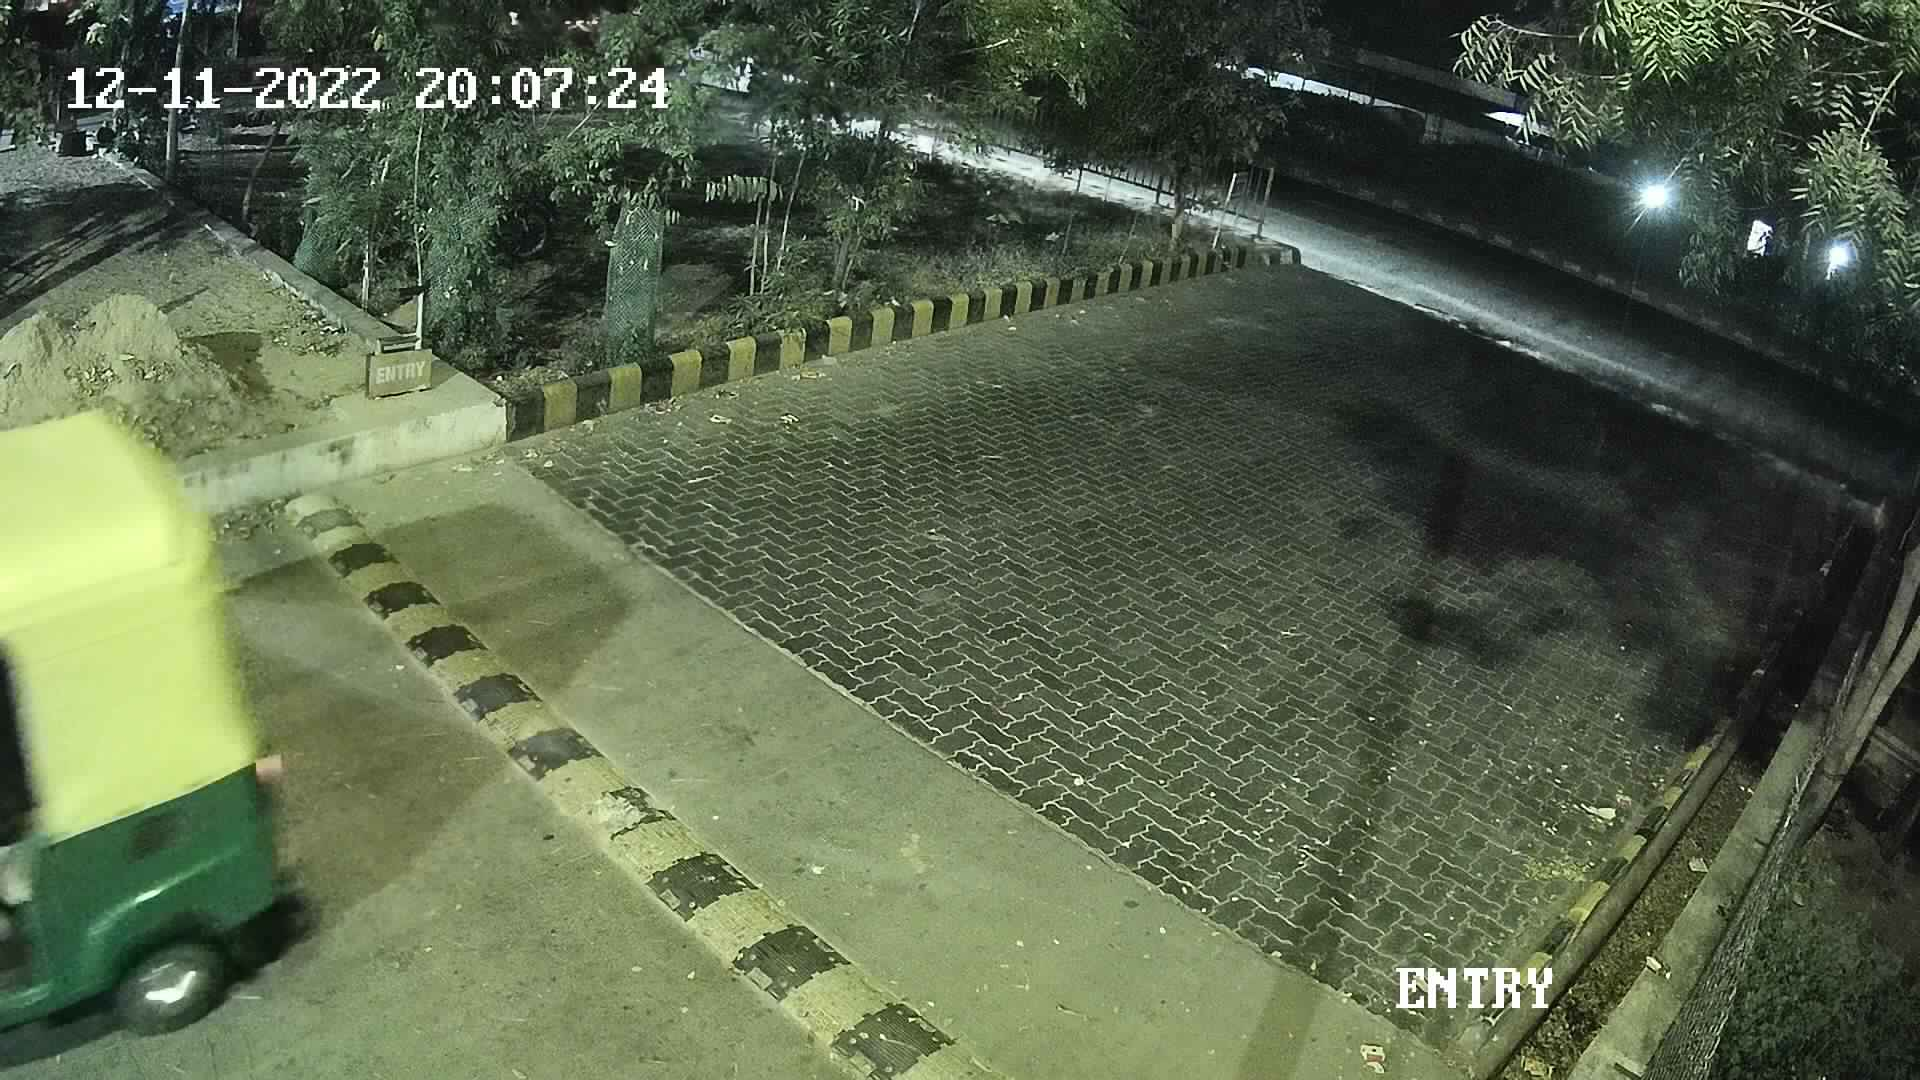Auto: (0, 349, 326, 1080)
